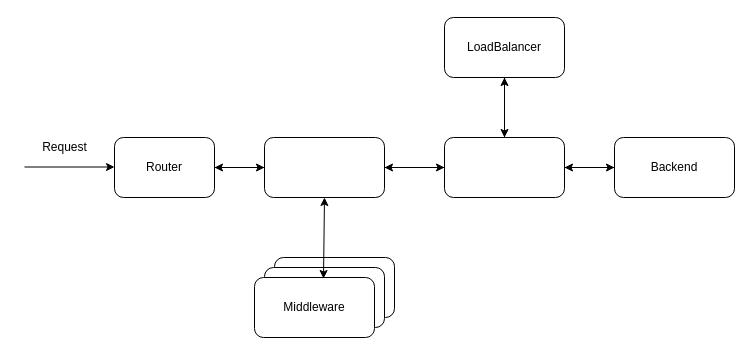
This 752x355 diagram has some shape labels left out. The shapes that lost their labels are listed below. From the top down, each one's centre as x and y in pixels, then its label:
the point at 324,167: Rule
the point at 504,167: Service
